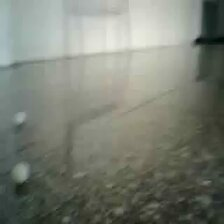tennis: (77, 182, 114, 224), (22, 71, 37, 93)
